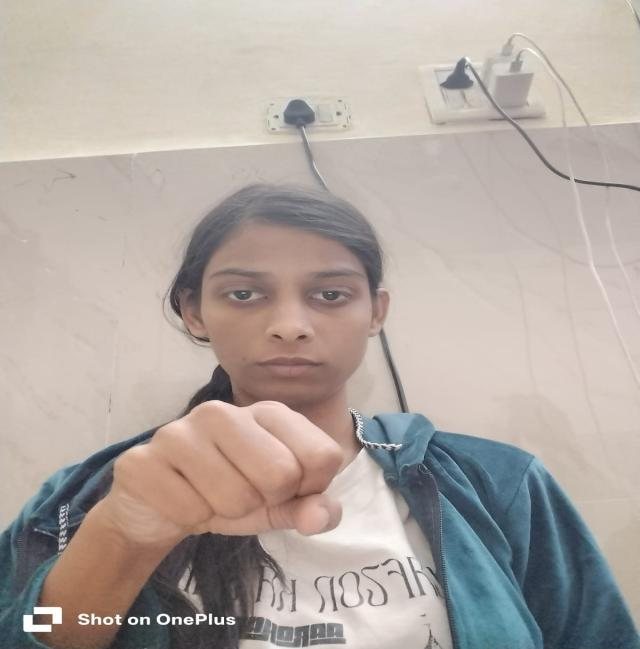Yes: (27, 382, 356, 552)
